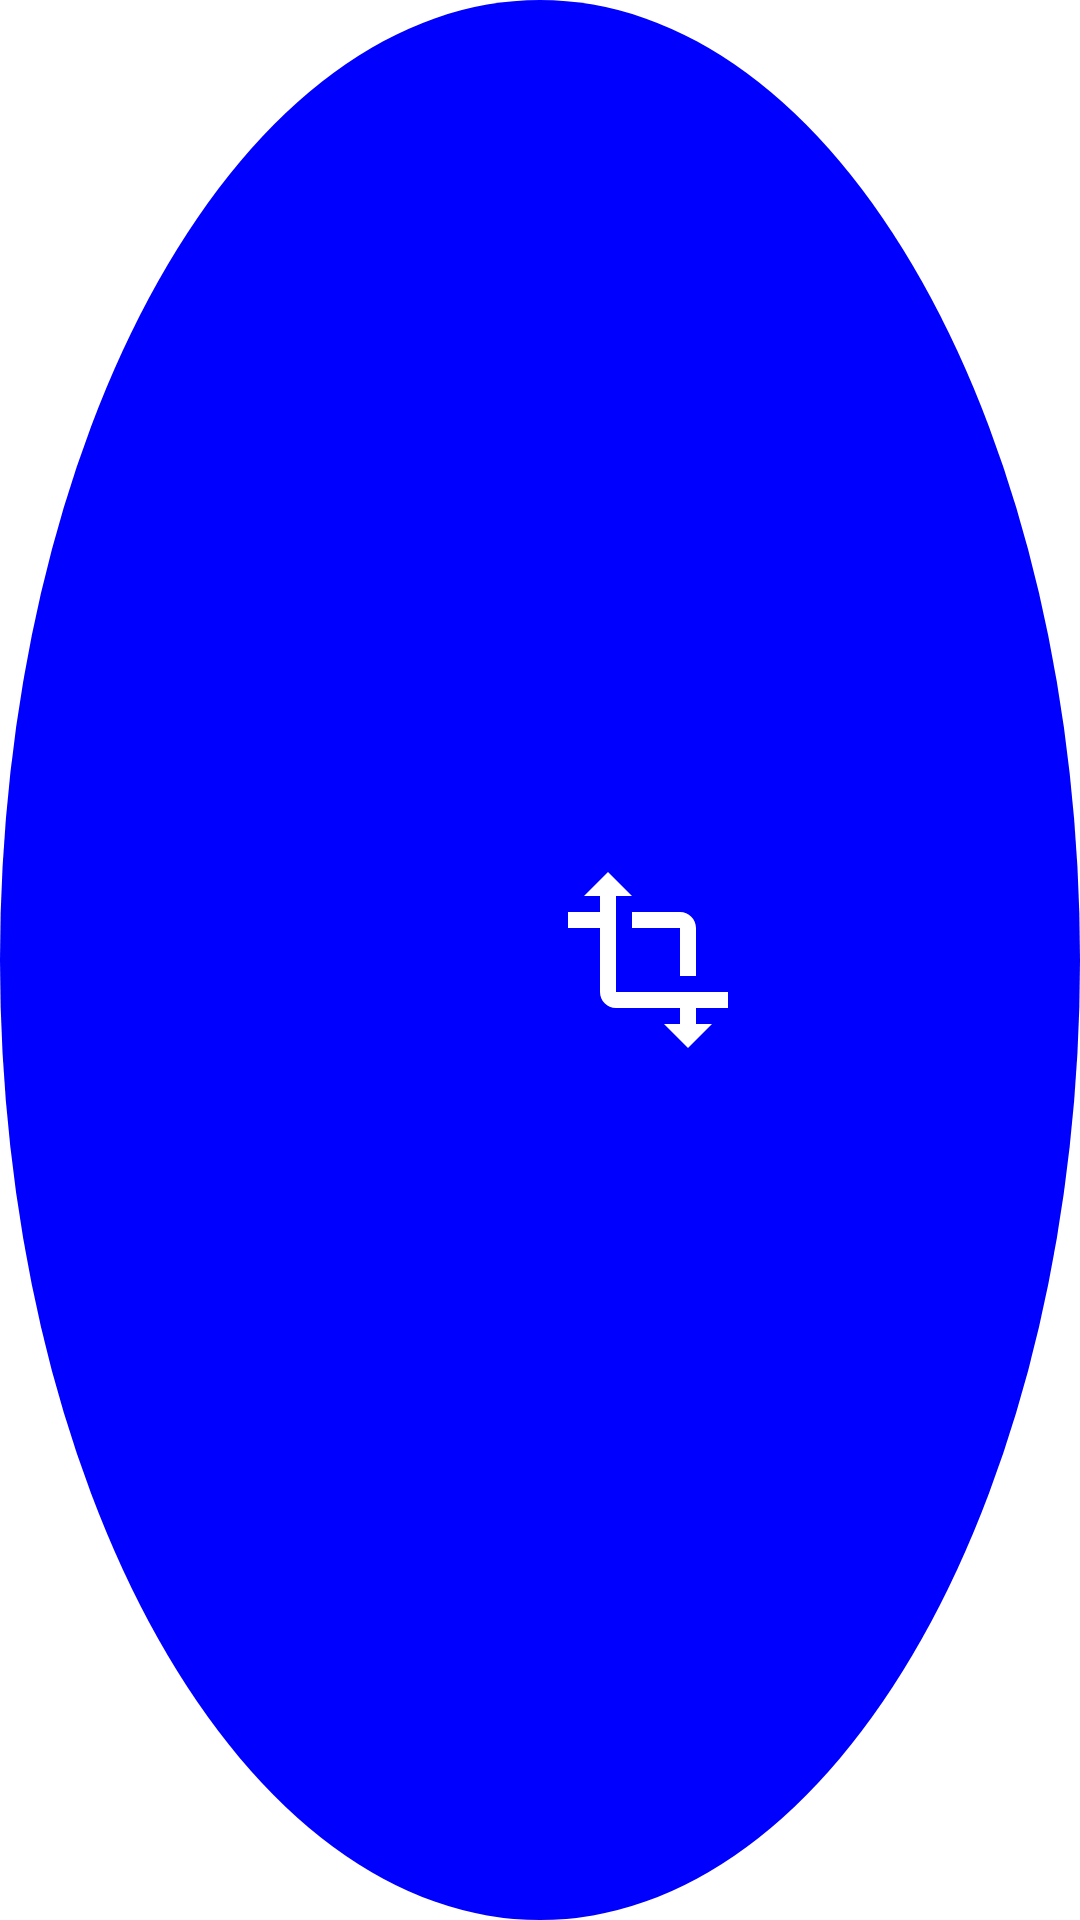

Named icons in this screenshot (1080*1920) and their bounding boxes, (x1, y1, x2, y2):
transform: (568, 872, 728, 1048)
